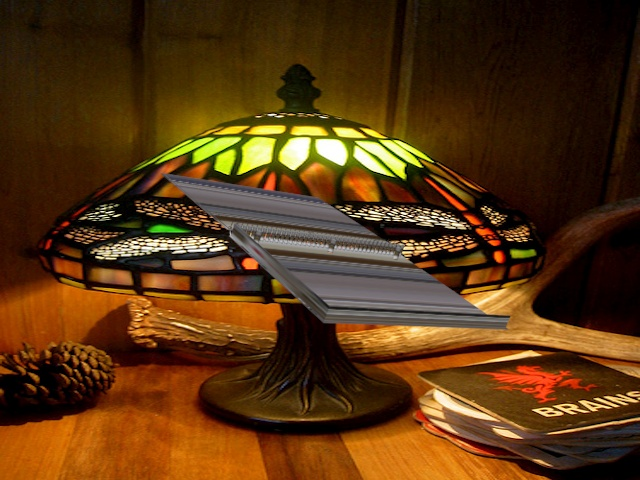paper_notebook: (161, 169, 512, 337)
